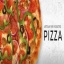olives: (17, 24, 26, 34), (5, 33, 12, 44), (1, 5, 8, 15), (25, 45, 32, 54)
pepper: (26, 14, 40, 39), (18, 37, 30, 57)
pepperoni: (1, 45, 12, 62), (8, 20, 19, 36), (25, 1, 38, 13)
pizza: (1, 1, 41, 64)
